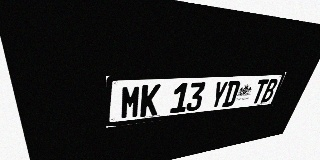1: (170, 83, 191, 114)
3: (185, 82, 206, 112)
B: (260, 79, 279, 103)
D: (221, 80, 241, 107)
K: (140, 84, 161, 117)
M: (120, 85, 142, 119)
T: (250, 79, 269, 104)
Y: (209, 81, 229, 109)
